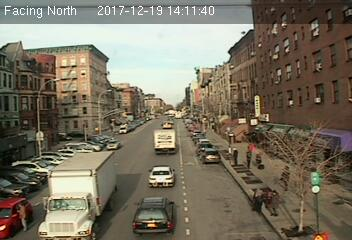car: (132, 195, 176, 236), (147, 166, 176, 189), (201, 147, 221, 165)
truck: (39, 152, 118, 240), (152, 127, 179, 156)
